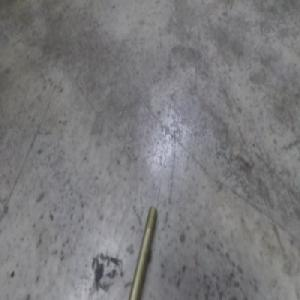Bolt: (127, 202, 157, 300)
